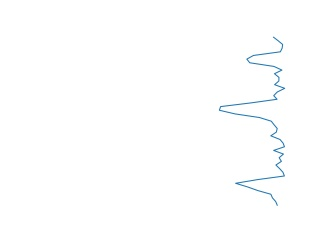underwaterNaturalLevee: (216, 35, 290, 209)
